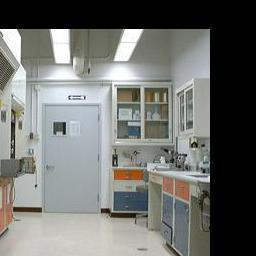Puerta: (43, 103, 99, 211)
